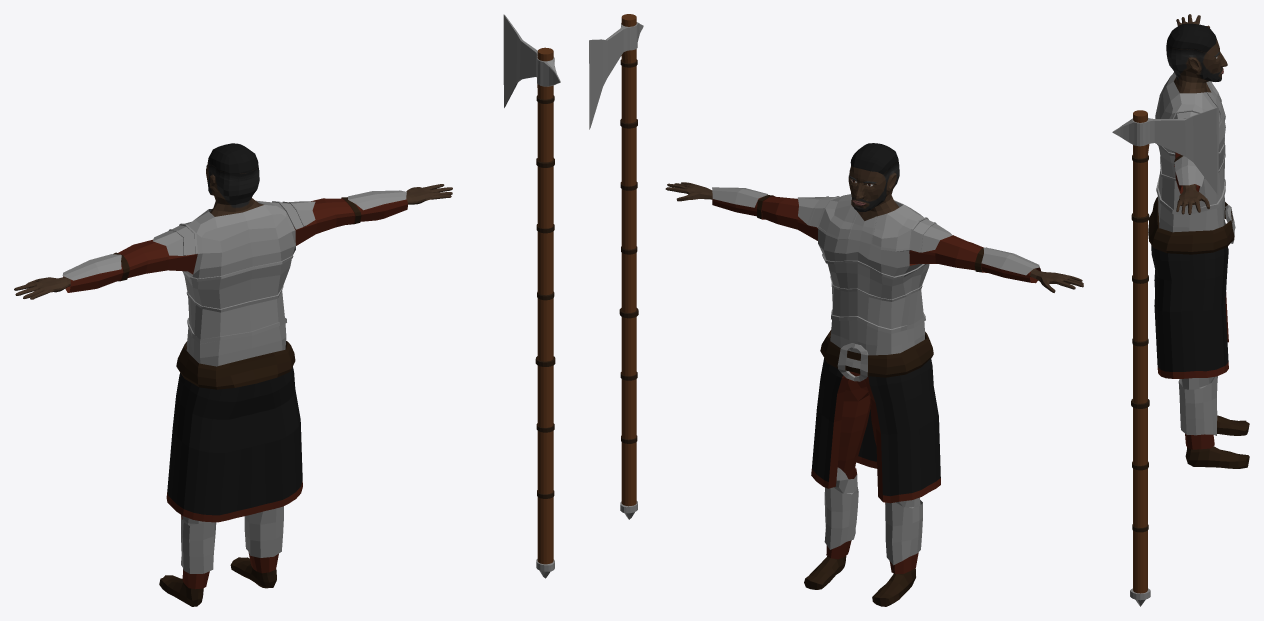
Rendered from fighterhuman.fbx.
3 renders of one model, left to right at view 1: azimuth 30°, elevation 25°; view 2: azimuth 150°, elevation 25°; view 3: azimuth 270°, elevation 25°, orthographic. The views are drawn at different scales.
Visible parts, largest first — view 1: armor, pants, dane axe, body, belt, boots; view 2: armor, pants, dane axe, body, belt, boots; view 3: pants, dane axe, armor, body, belt, boots.
Part boxes in pixels (x1,y1,x2,y2): armor: [62, 190, 408, 366]; pants: [166, 367, 302, 589]; dane axe: [503, 14, 560, 578]; body: [14, 143, 452, 299]; belt: [176, 341, 295, 389]; boots: [159, 557, 276, 606]; armor: [712, 187, 1040, 355]; pants: [811, 358, 940, 573]; dane axe: [589, 14, 643, 519]; body: [665, 143, 1083, 292]; belt: [820, 330, 933, 381]; boots: [804, 556, 915, 606]; pants: [1151, 220, 1228, 449]; dane axe: [1112, 107, 1218, 606]; armor: [1155, 72, 1225, 232]; body: [1166, 14, 1227, 214]; belt: [1148, 196, 1235, 254]; boots: [1185, 415, 1249, 468].
Bounding box in the file's own units: 213 × 212 × 52.97.
Materials: 12 (1 with a texture image).
